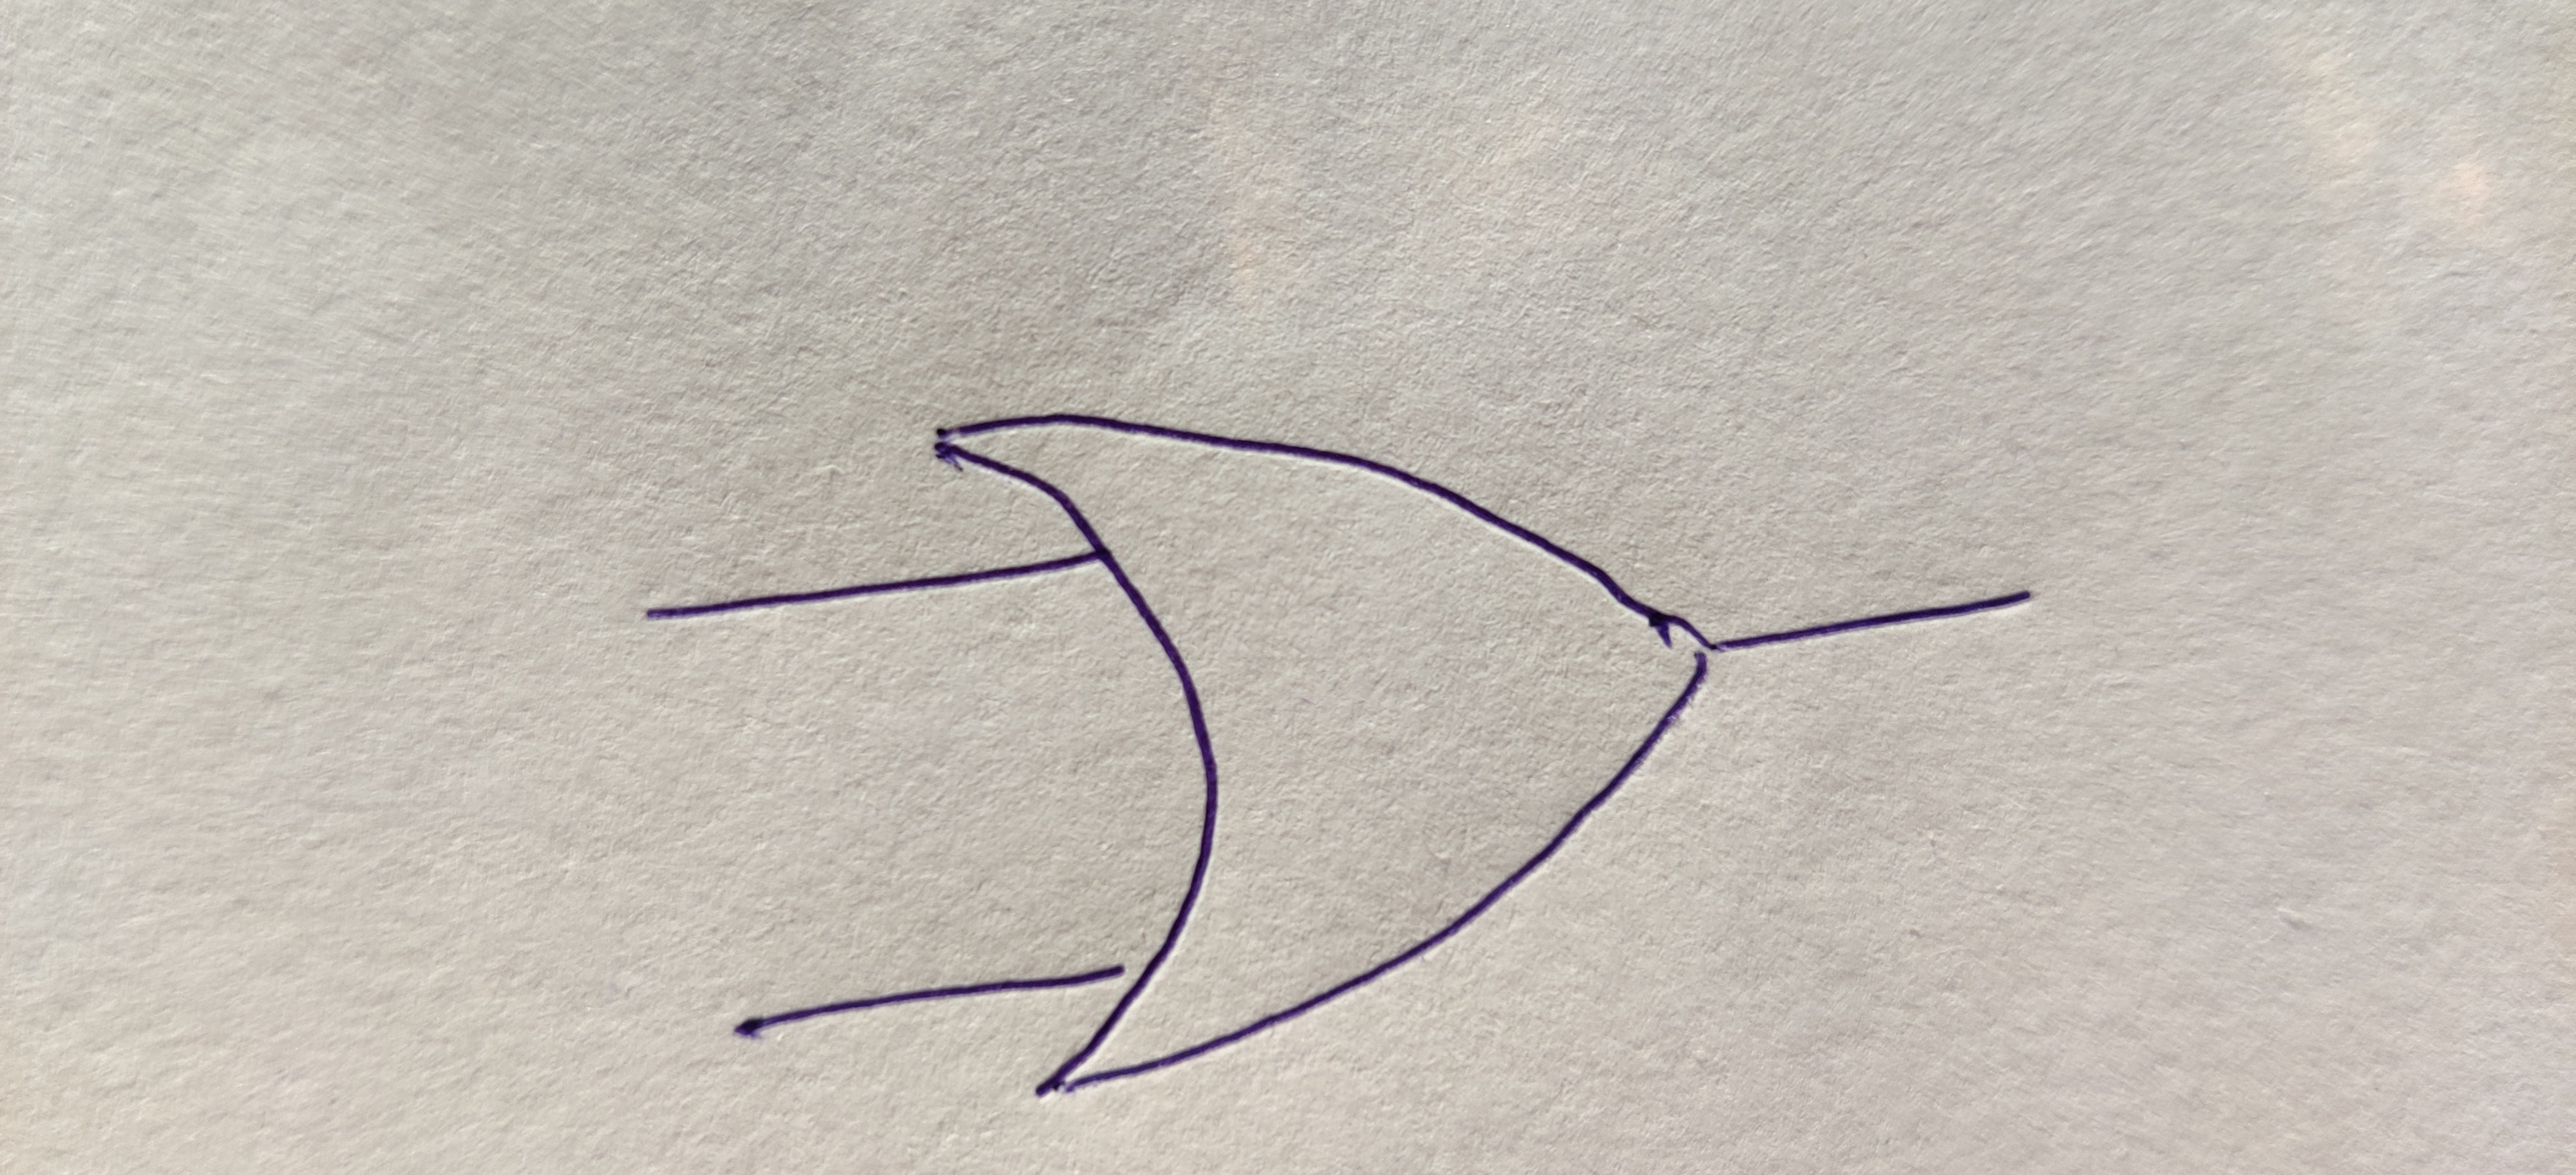or: (941, 414, 1715, 1094)
